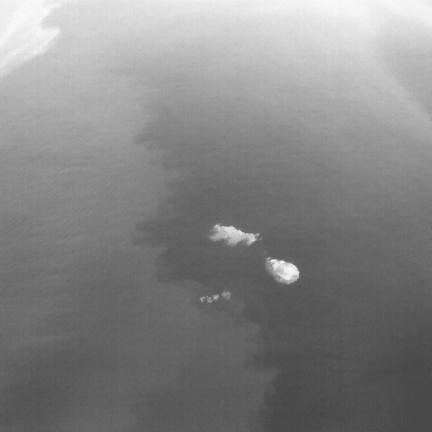flukeprints: (209, 224, 259, 246), (265, 257, 299, 284)
